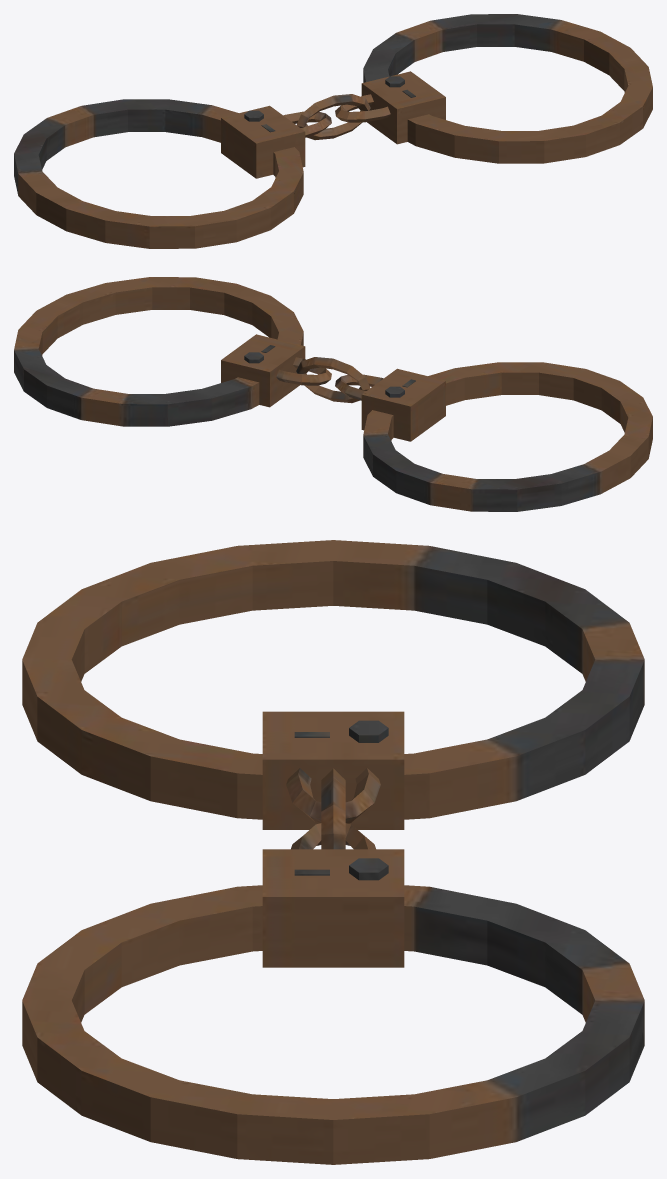
Rendered from O25_handcuffs.glb.
3 renders of one model, top to bottom at view 1: azimuth 30°, elevation 25°; view 2: azimuth 150°, elevation 25°; view 3: azimuth 270°, elevation 25°, orthographic. The views are drawn at different scales.
Parts seen in each view (by area): view 1: Oxidized wrist bracelet; view 2: Oxidized wrist bracelet; view 3: Oxidized wrist bracelet.
Boxes of the visible parts, x1,y1,x2,y2 form: Oxidized wrist bracelet: (14,14,652,248); Oxidized wrist bracelet: (14,277,652,511); Oxidized wrist bracelet: (22,540,644,1164).
Bounding box in the file's own units: 0.2 × 0.0152 × 0.0907.
3 materials, 3 textured.
